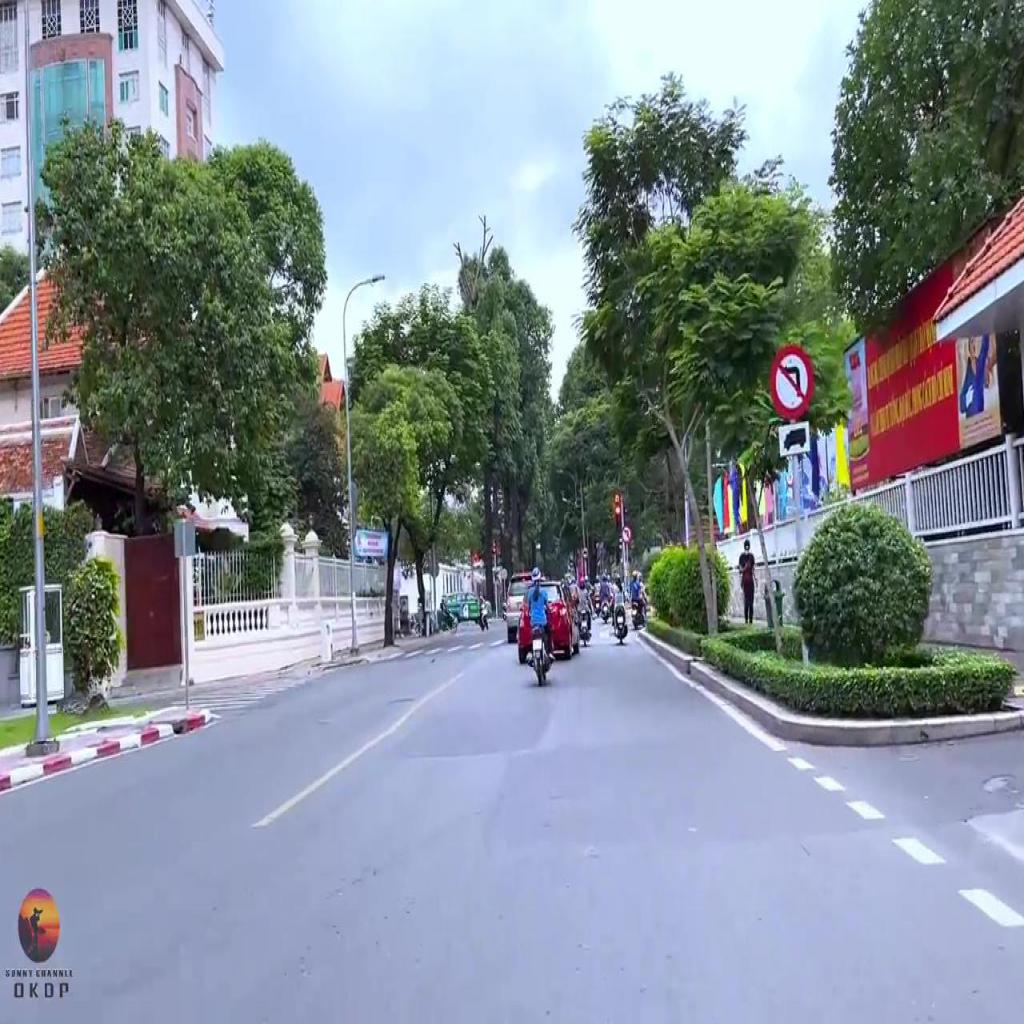cam_o_to_tai: (582, 547, 588, 559)
cam_re_trai: (770, 344, 814, 420), (621, 525, 632, 543)
khac: (778, 421, 810, 458)
